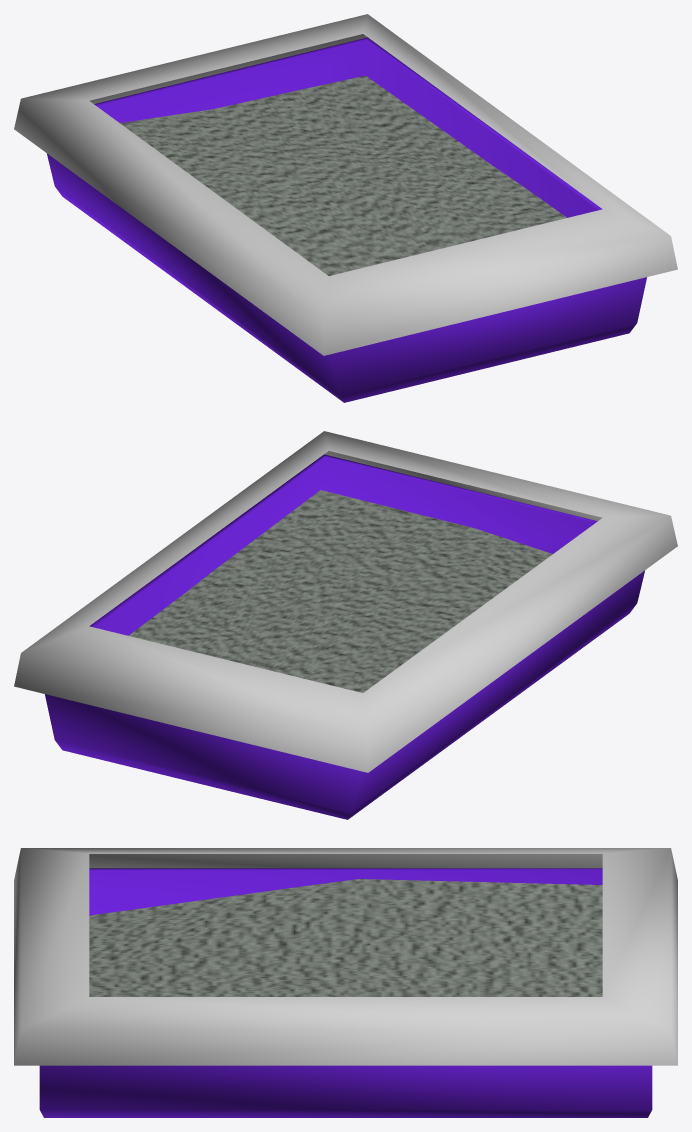
File: Kitty_Box_F.FBX
3 renders of one model, top to bottom at view 1: azimuth 30°, elevation 25°; view 2: azimuth 150°, elevation 25°; view 3: azimuth 270°, elevation 25°, orthographic. The views are drawn at different scales.
Parts seen in each view (by area): view 1: Kitty Box; view 2: Kitty Box; view 3: Kitty Box.
Part boxes in pixels (x1=…): Kitty Box: x1=14, y1=14, x2=677, y2=402; Kitty Box: x1=14, y1=431, x2=677, y2=819; Kitty Box: x1=14, y1=848, x2=677, y2=1117.
Size of the model in its own units: 107 by 32.85 by 163.
